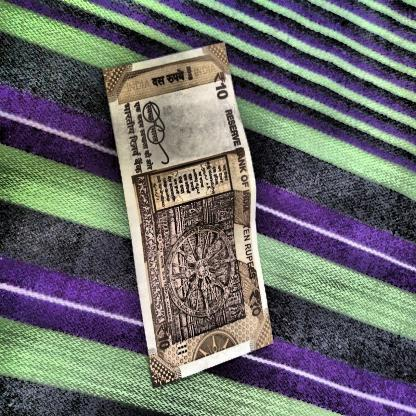Rs10: (211, 67, 232, 103), (154, 320, 174, 355)
